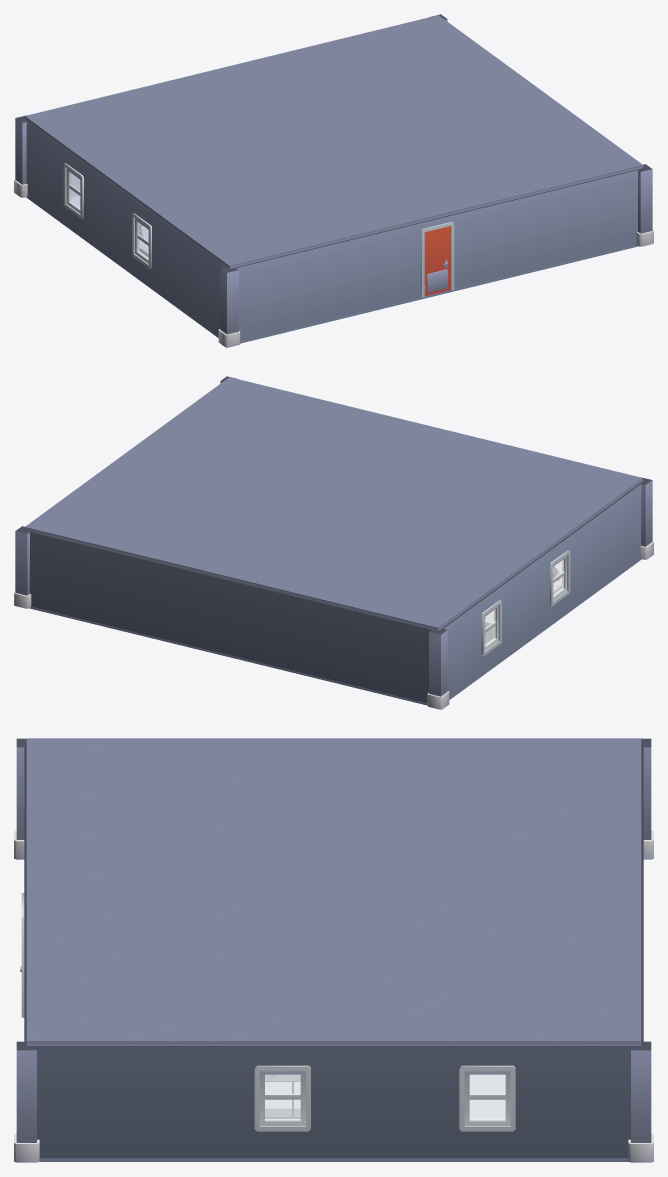
File: room.glb
3 views of the same model, one above another, from view 1: azimuth 30°, elevation 25°; view 2: azimuth 150°, elevation 25°; view 3: azimuth 270°, elevation 25° (orthographic). The views are drawn at different scales.
Parts seen in each view (by area): view 1: floor (×2), wall, column, (%ignore); view 2: floor (×2), wall, column, (%ignore); view 3: floor (×2), wall, column, (%ignore), counter_counter_2_shelves.001.
Boxes of the visible parts, x1,y1,x2,y2 form: floor (×2): (24,15,643,343); wall: (26,121,643,341); column: (14,14,653,347); (%ignore): (70,172,148,258); floor (×2): (24,377,643,705); wall: (24,480,644,703); column: (14,376,653,709); (%ignore): (485,559,563,645); floor (×2): (26,738,641,1161); wall: (21,743,643,1158); column: (14,738,653,1162); (%ignore): (265,1074,505,1119); counter_counter_2_shelves.001: (265,1074,300,1118).
Bounding box in the file's own units: 14.5 × 2.6 × 12.5.
Materials: 8 (6 with a texture image).
